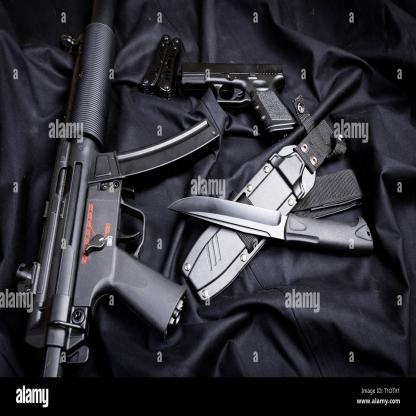Gun: (16, 1, 222, 377)
Knife: (167, 96, 376, 304)
Pistol: (178, 58, 298, 144)
